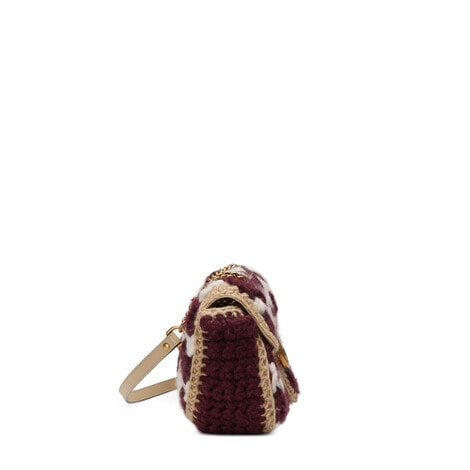Gucci: (166, 260, 298, 431)
